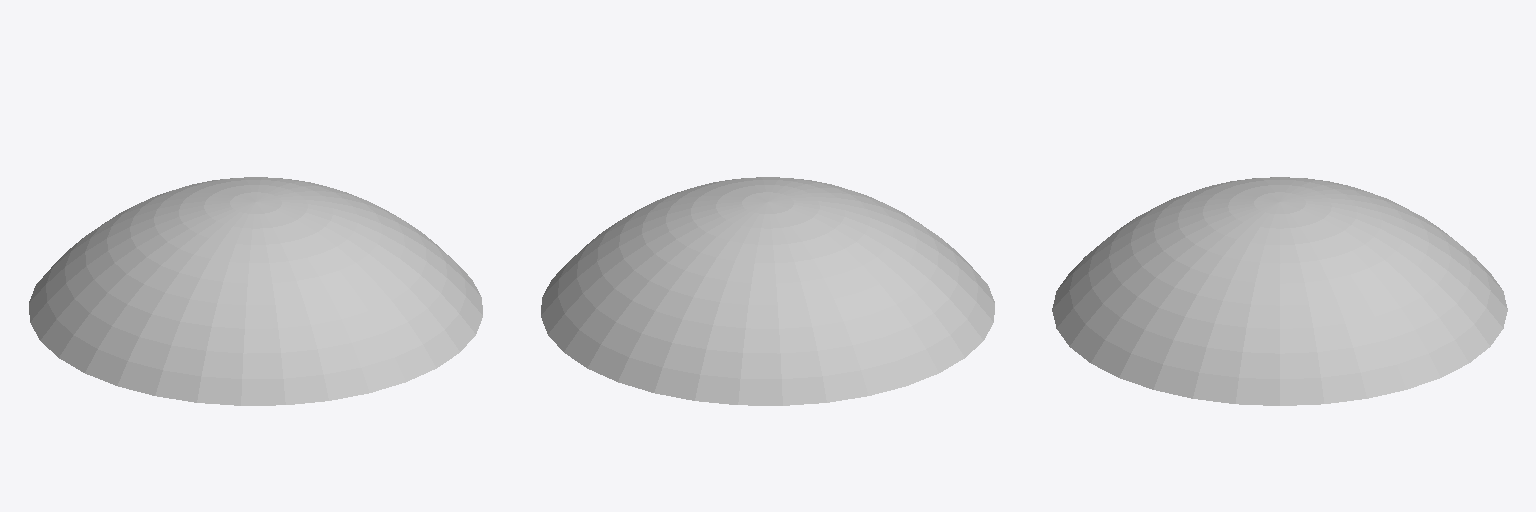
Rendered from PE_UFO_Top.obj.
3 views of the same model, side by side, from view 1: azimuth 30°, elevation 25°; view 2: azimuth 150°, elevation 25°; view 3: azimuth 270°, elevation 25° (orthographic).
Parts seen in each view (by area): view 1: PE_UFO_Top; view 2: PE_UFO_Top; view 3: PE_UFO_Top.
Part boxes in pixels (x1,y1,x2,y2): PE_UFO_Top: (29,177,482,405); PE_UFO_Top: (541,177,994,405); PE_UFO_Top: (1052,177,1507,405).
Size of the model in its own units: 8.93 by 2.33 by 8.93.